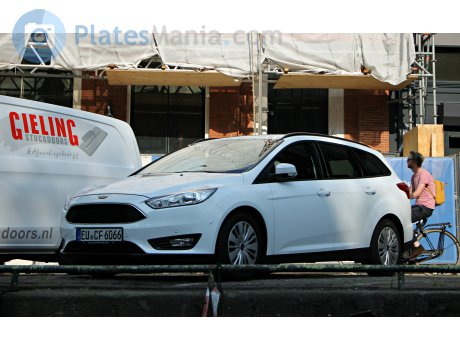License Plates: (81, 227, 123, 238)
